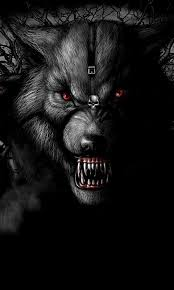Lobo: (4, 20, 174, 196)
